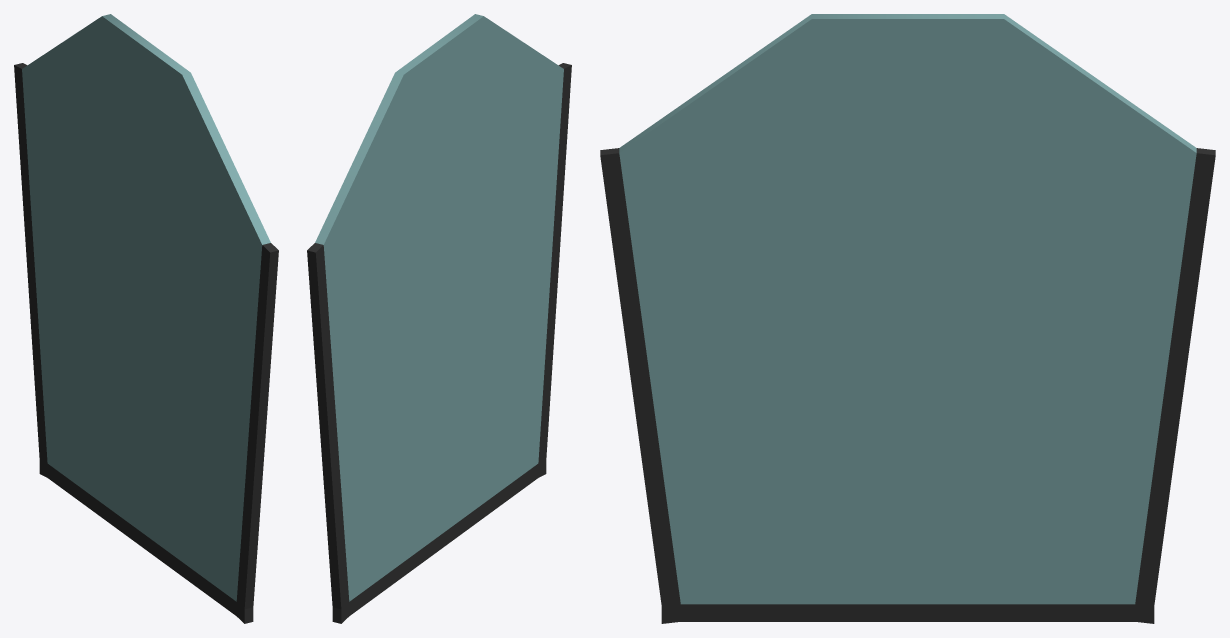
The model's file is Pitch Ladder.FBX.
The picture shows the model from 3 angles, left to right: view 1: azimuth 30°, elevation 25°; view 2: azimuth 150°, elevation 25°; view 3: azimuth 270°, elevation 25°; orthographic projection. The views are drawn at different scales.
Visible parts, largest first — view 1: Box001, Object; view 2: Box001, Object; view 3: Box001, Object.
Boxes of the visible parts, x1=… form: Box001: x1=22, y1=14, x2=270, y2=601; Object: x1=14, y1=63, x2=278, y2=623; Box001: x1=315, y1=14, x2=563, y2=601; Object: x1=307, y1=63, x2=571, y2=623; Box001: x1=619, y1=14, x2=1196, y2=604; Object: x1=600, y1=148, x2=1215, y2=623.
Bounding box in the file's own units: 0.3155 × 17.34 × 15.99.
